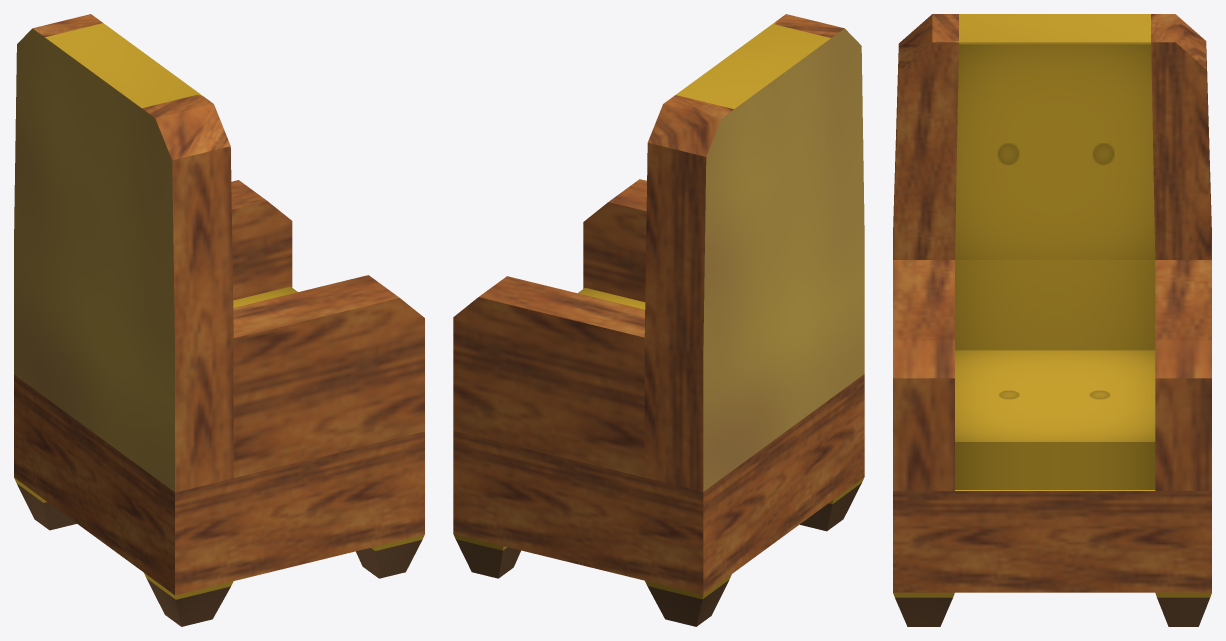
File: chair.fbx
3 renders of one model, left to right at view 1: azimuth 30°, elevation 25°; view 2: azimuth 150°, elevation 25°; view 3: azimuth 270°, elevation 25°, orthographic.
Visible parts, largest first — view 1: Chair; view 2: Chair; view 3: Chair, Cushion.
Boxes of the visible parts, bbox=[...] form: Chair: bbox=[14, 14, 424, 626]; Chair: bbox=[453, 14, 864, 626]; Chair: bbox=[893, 14, 1211, 626]; Cushion: bbox=[955, 350, 1155, 489].
Size of the model in its own units: 268 by 516 by 299.
